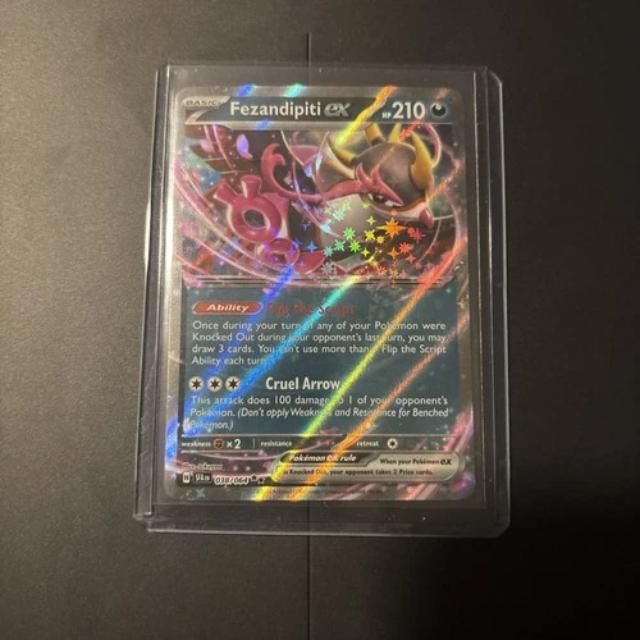Card: (157, 83, 483, 506)
Name: (223, 96, 352, 119)
